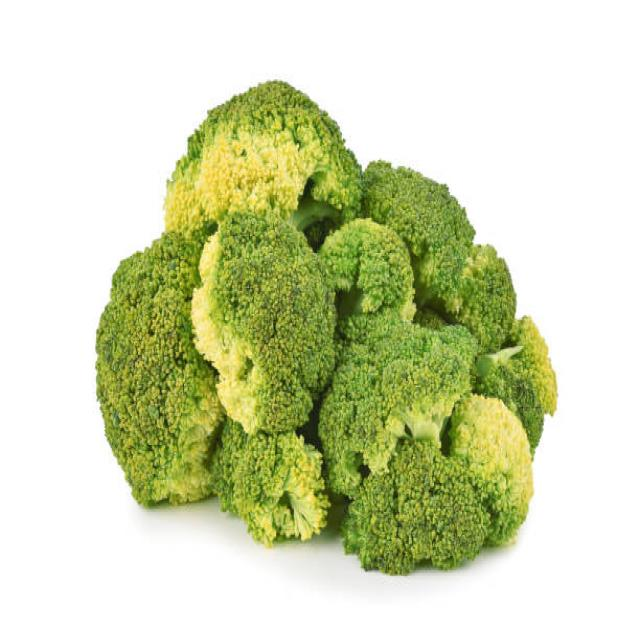Broccoli head: (67, 94, 578, 586)
